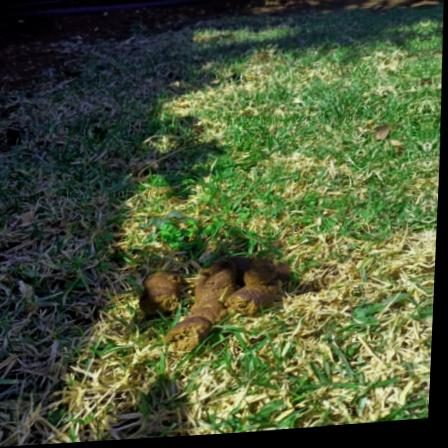dog-poop: (137, 246, 297, 371)
